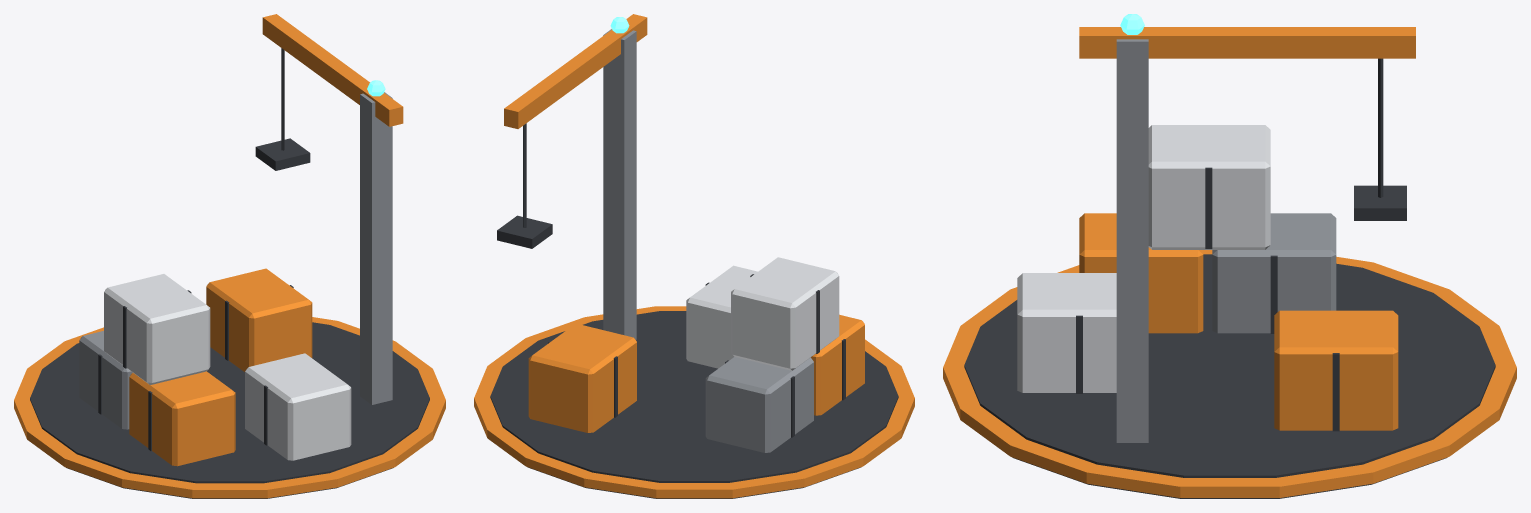
File: trade_port.glb
3 renders of one model, left to right at view 1: azimuth 30°, elevation 25°; view 2: azimuth 150°, elevation 25°; view 3: azimuth 270°, elevation 25°, orthographic. The views are drawn at different scales.
Visible parts, largest first — view 1: trade_port; view 2: trade_port; view 3: trade_port.
Boxes of the visible parts, left/top/right/bottom form: trade_port: left=14, top=14, right=445, bottom=498; trade_port: left=474, top=14, right=914, bottom=498; trade_port: left=943, top=14, right=1516, bottom=498.
Size of the model in its own units: 3.19 by 2.73 by 3.24.
